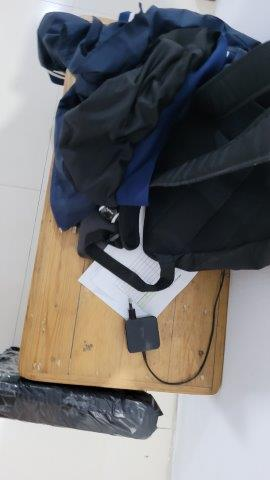kertas: (80, 206, 208, 330)
